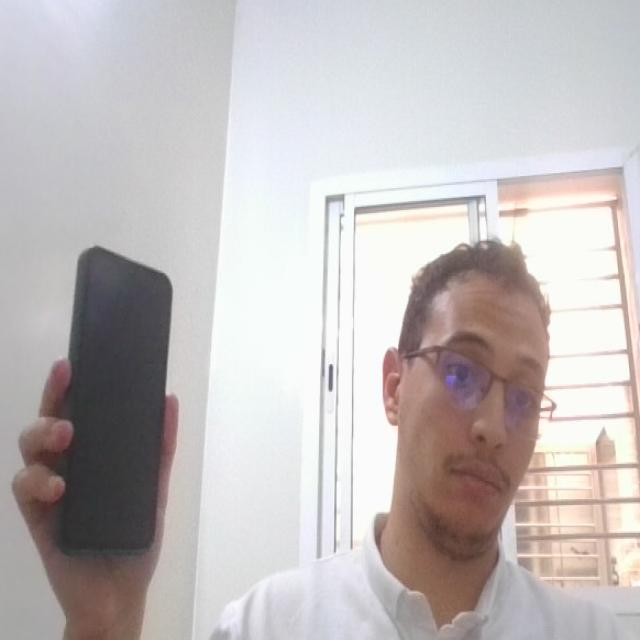phone: (53, 248, 180, 568)
